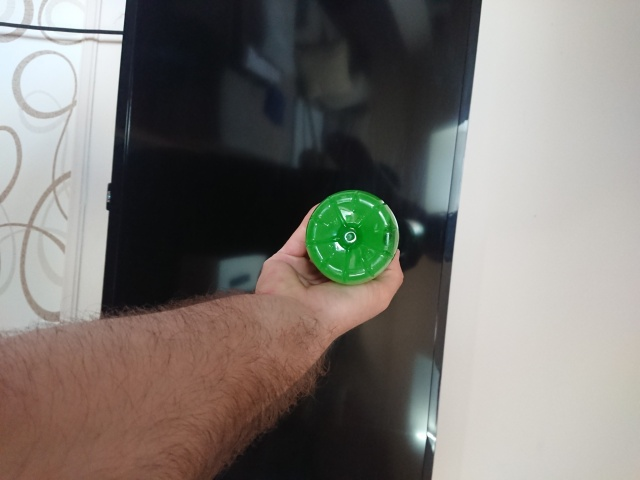Vindi Iso Sport Lemon-Grapefruit 500mL: (302, 187, 403, 289)
